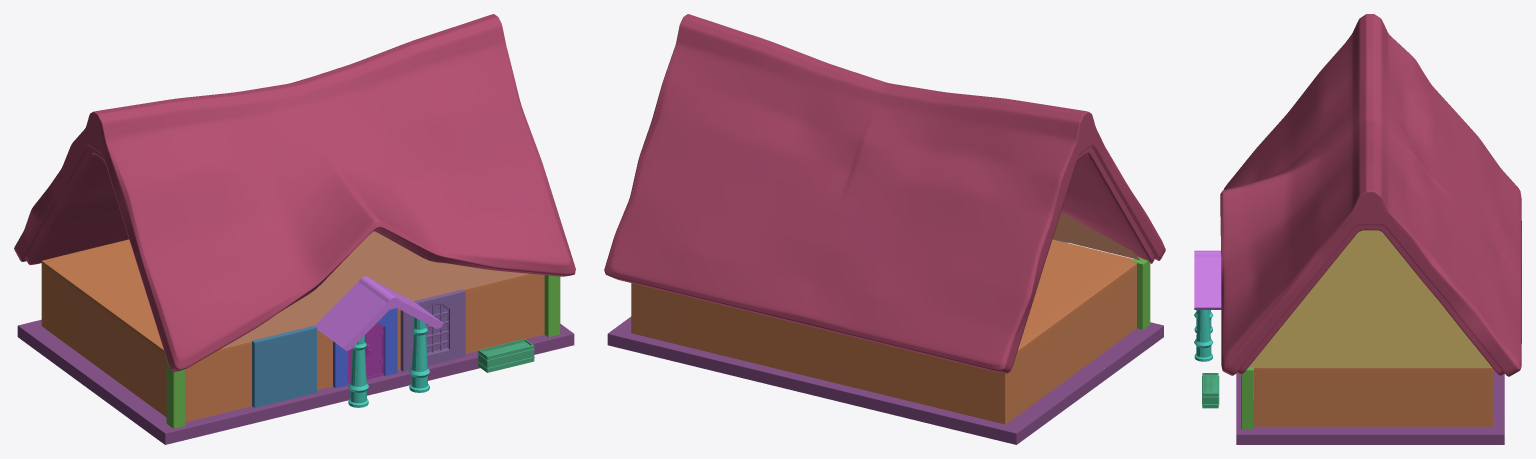
Rendered from model_house2_high.fbx.
3 renders of one model, left to right at view 1: azimuth 30°, elevation 25°; view 2: azimuth 150°, elevation 25°; view 3: azimuth 270°, elevation 25°, orthographic. The views are drawn at different scales.
Visible parts, largest first — view 1: pasted__roof_top, pasted__house_wall28, pasted__house_wall1, pasted__roof_face_2, pasted__house_wall, pasted__pasted__roof_top, pasted__house_wall4, pasted__house_wall_door4, pasted__pCube29, pasted__house_edge6, pasted__house_pilar, pasted__pCube42 (+2 smaller); view 2: pasted__roof_top, pasted__house_wall28, pasted__house_wall1, pasted__roof_face_2, pasted__house_edge6; view 3: pasted__roof_top, pasted__roof_face, pasted__house_wall28, pasted__house_wall1, pasted__pasted__roof_top, pasted__house_pilar, pasted__house_edge1, pasted__pCube29.
Boxes of the visible parts, left/top/right/bottom form: pasted__roof_top: left=14, top=14, right=575, bottom=372; pasted__house_wall28: left=41, top=239, right=544, bottom=421; pasted__house_wall1: left=17, top=319, right=574, bottom=444; pasted__roof_face_2: left=223, top=231, right=526, bottom=347; pasted__house_wall: left=252, top=325, right=316, bottom=407; pasted__pasted__roof_top: left=315, top=276, right=443, bottom=350; pasted__house_wall4: left=400, top=289, right=465, bottom=371; pasted__house_wall_door4: left=333, top=308, right=397, bottom=388; pasted__pCube29: left=477, top=339, right=534, bottom=372; pasted__house_edge6: left=166, top=359, right=185, bottom=428; pasted__house_pilar: left=409, top=317, right=430, bottom=392; pasted__pCube42: left=348, top=322, right=384, bottom=383; pasted__roof_top: left=604, top=14, right=1165, bottom=373; pasted__house_wall28: left=631, top=239, right=1136, bottom=424; pasted__house_wall1: left=607, top=316, right=1163, bottom=444; pasted__roof_face_2: left=1052, top=212, right=1140, bottom=260; pasted__house_edge6: left=1131, top=257, right=1150, bottom=329; pasted__roof_top: left=1220, top=14, right=1521, bottom=376; pasted__roof_face: left=1249, top=230, right=1491, bottom=367; pasted__house_wall28: left=1254, top=367, right=1493, bottom=426; pasted__house_wall1: left=1236, top=369, right=1504, bottom=444; pasted__pasted__roof_top: left=1194, top=250, right=1221, bottom=309; pasted__house_pilar: left=1194, top=310, right=1213, bottom=361; pasted__house_edge1: left=1241, top=367, right=1253, bottom=429; pasted__pCube29: left=1202, top=373, right=1219, bottom=408.
Size of the model in its own units: 1311 by 847 by 1001.
